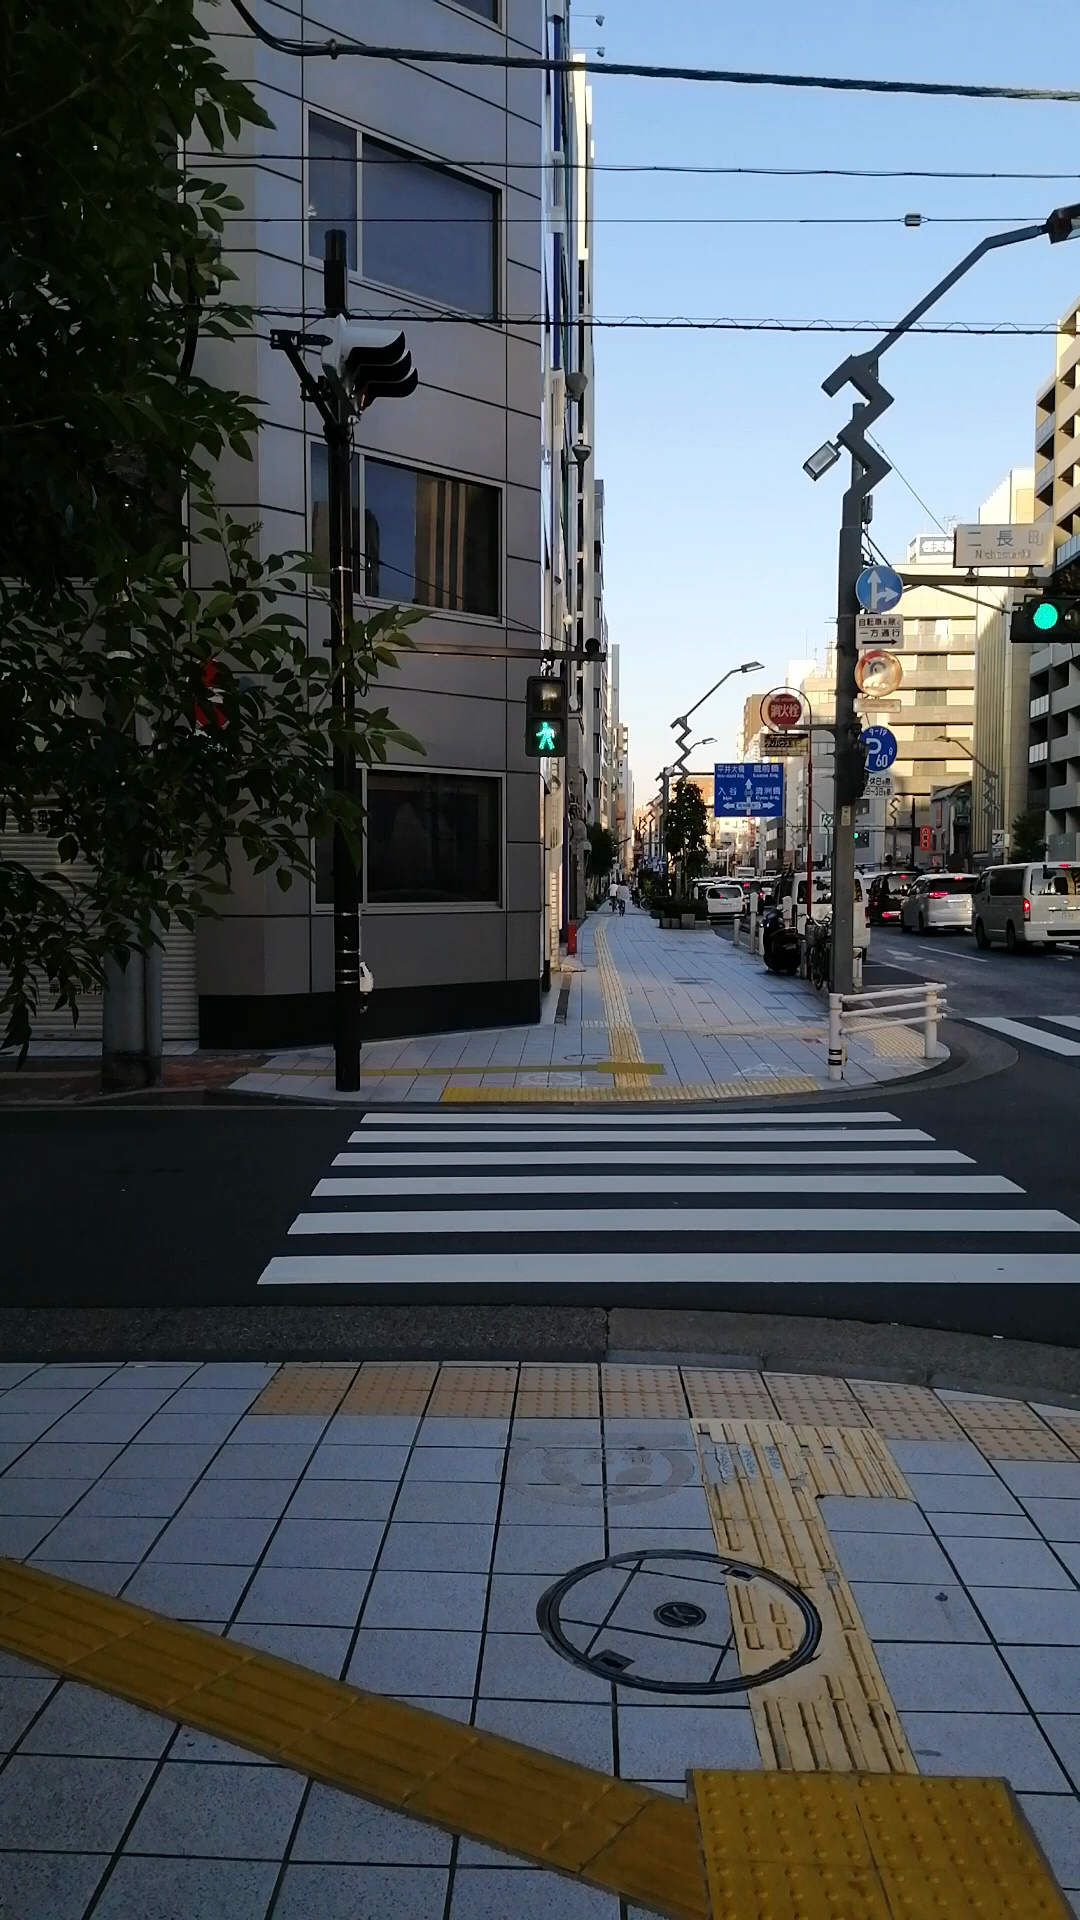green: (525, 675, 568, 757)
